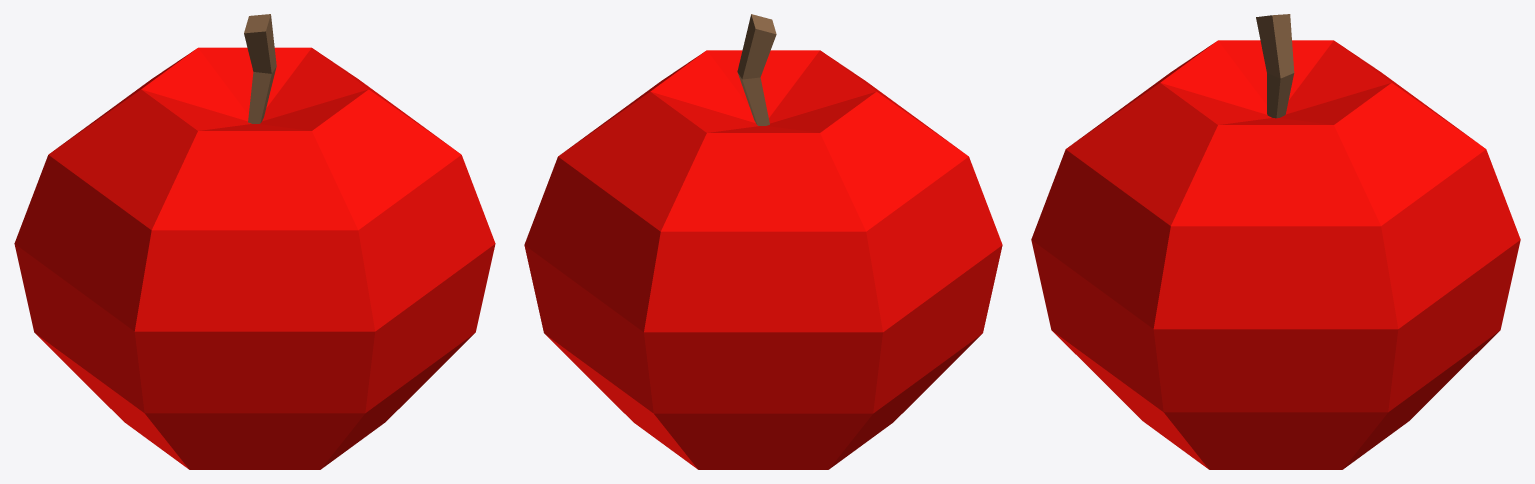
File: Food_apple_red.glb
3 renders of one model, left to right at view 1: azimuth 30°, elevation 25°; view 2: azimuth 150°, elevation 25°; view 3: azimuth 270°, elevation 25°, orthographic. The views are drawn at different scales.
Visible parts, largest first — view 1: apple_002; view 2: apple_002; view 3: apple_002.
Boxes of the visible parts, x1,y1,x2,y2 form: apple_002: [14, 14, 495, 469]; apple_002: [524, 14, 1002, 469]; apple_002: [1031, 14, 1520, 469].
Size of the model in its own units: 0.1616 by 0.1737 by 0.1866.
1 material, 1 textured.
